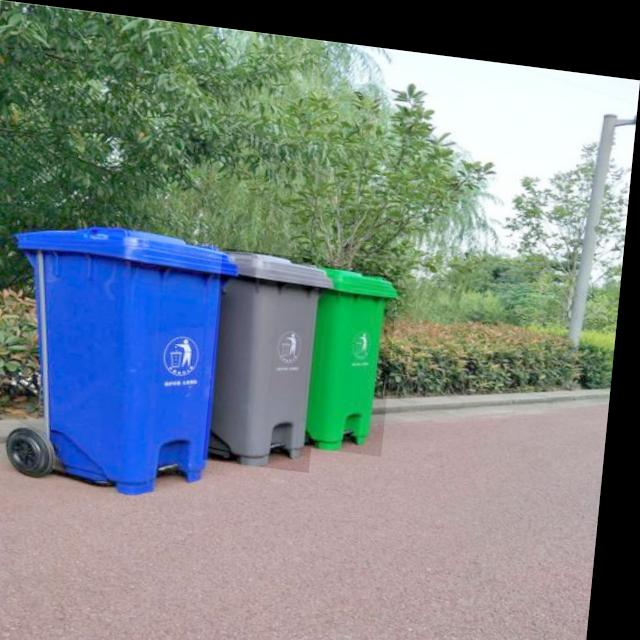garbage_bin: (0, 214, 242, 497), (212, 241, 334, 464), (310, 258, 403, 446)
